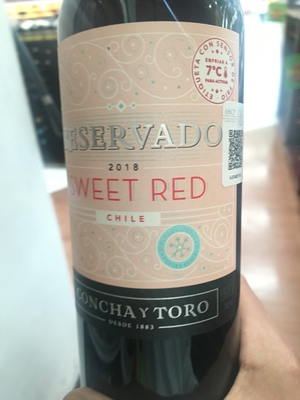reservado sweet red: (57, 4, 264, 395)
